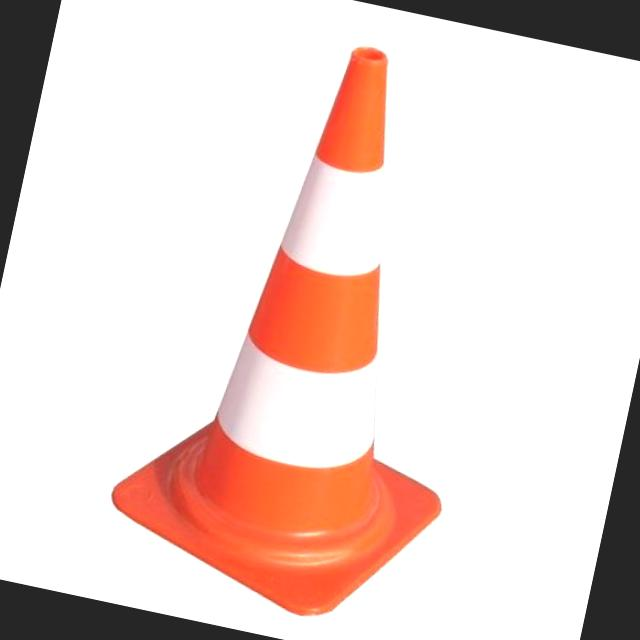cone: (89, 14, 518, 640)
